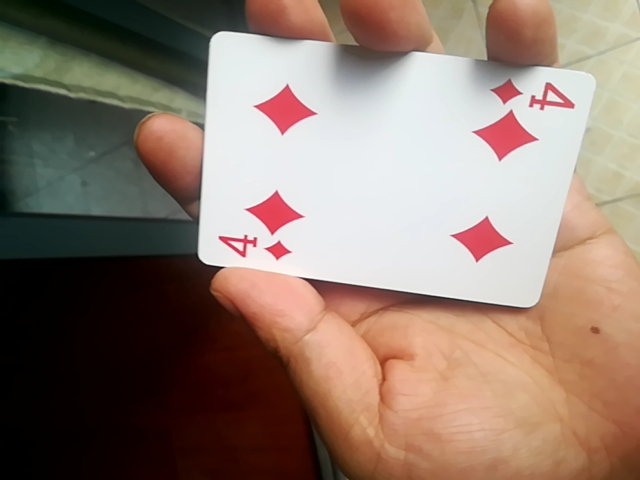fk 4: (185, 28, 593, 316)
